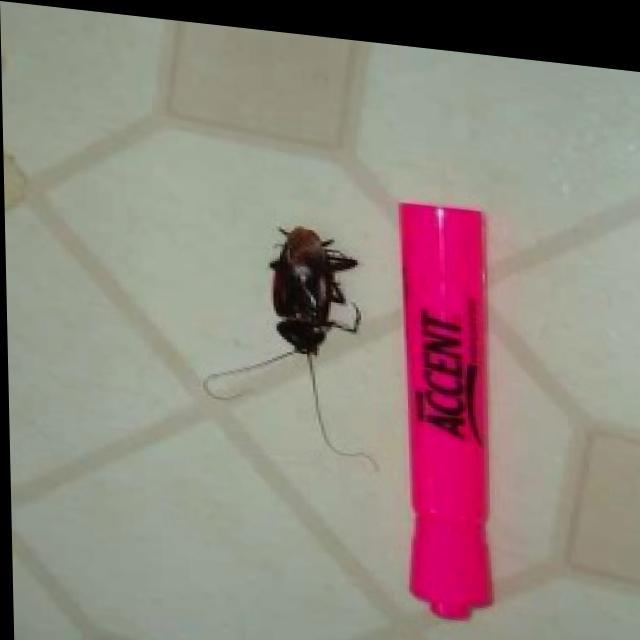cockroach: (229, 195, 372, 420)
